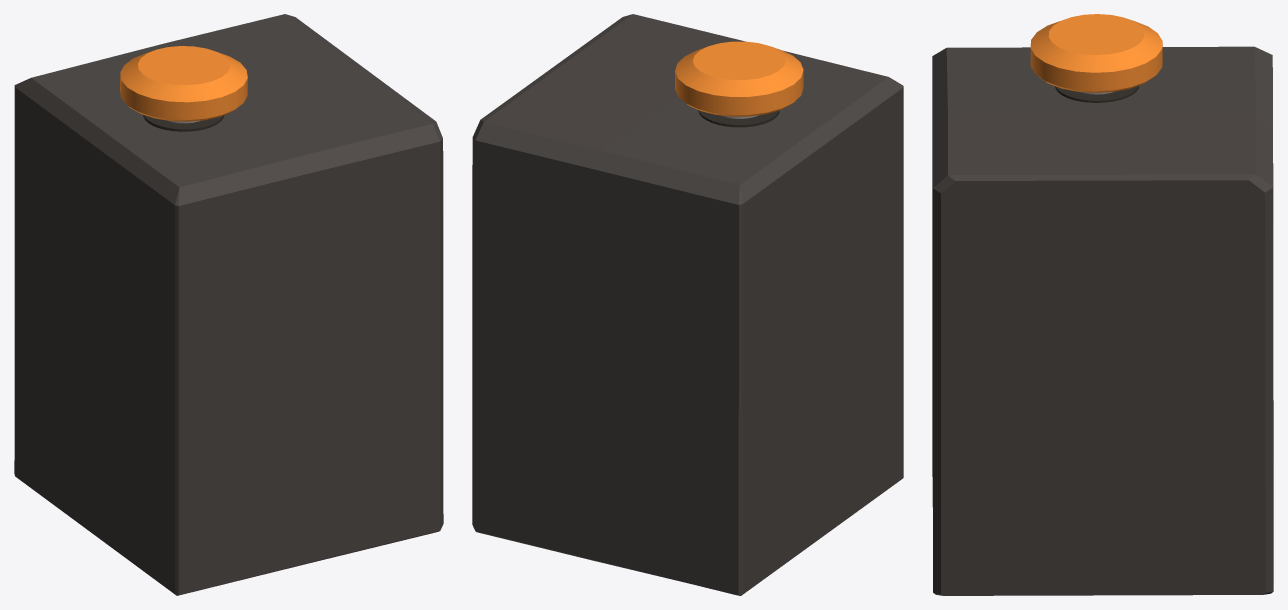
The model's file is Slider01_TransferHeat.fbx.
The picture shows the model from 3 angles, left to right: view 1: azimuth 30°, elevation 25°; view 2: azimuth 150°, elevation 25°; view 3: azimuth 270°, elevation 25°; orthographic projection. The views are drawn at different scales.
Visible parts, largest first — view 1: Slider_TransferHeatBase, Slider_TransferHeatButton; view 2: Slider_TransferHeatBase, Slider_TransferHeatButton; view 3: Slider_TransferHeatBase, Slider_TransferHeatButton.
Boxes of the visible parts, x1=… form: Slider_TransferHeatBase: x1=14, y1=14, x2=443, y2=595; Slider_TransferHeatButton: x1=120, y1=46, x2=247, y2=123; Slider_TransferHeatBase: x1=472, y1=14, x2=903, y2=595; Slider_TransferHeatButton: x1=675, y1=41, x2=803, y2=118; Slider_TransferHeatBase: x1=932, y1=46, x2=1273, y2=595; Slider_TransferHeatButton: x1=1030, y1=14, x2=1162, y2=94.
Bounding box in the file's own units: 0.0873 × 0.1395 × 0.0917.
